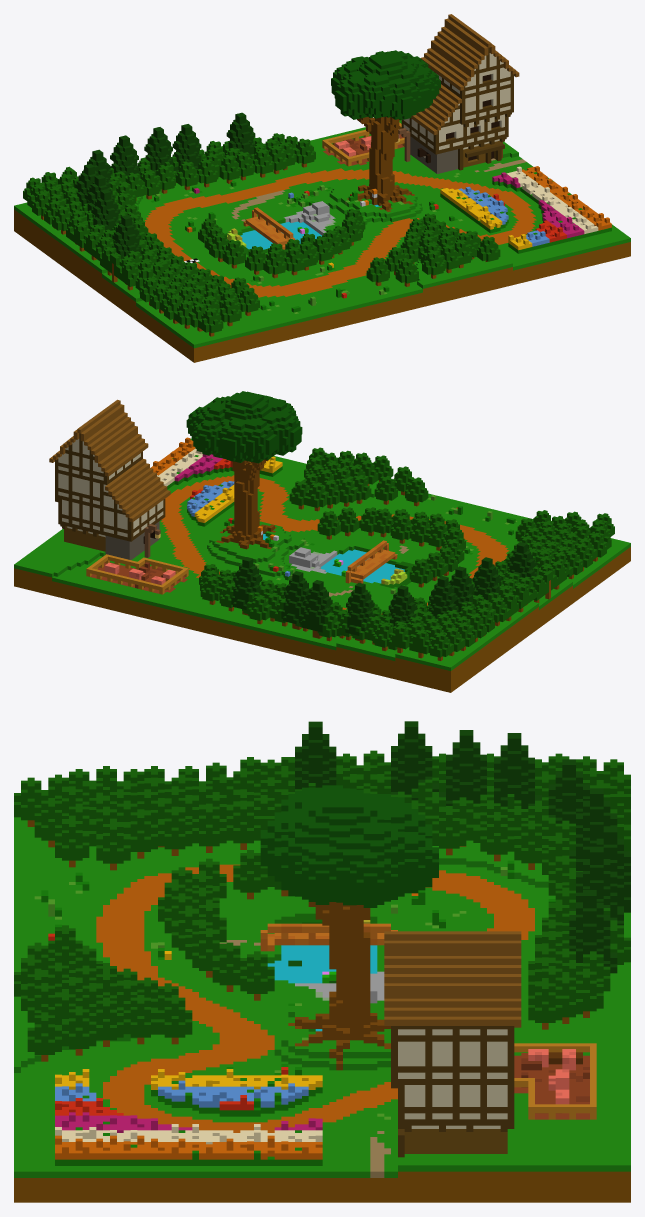
Rendered from grassland.obj.
3 renders of one model, top to bottom at view 1: azimuth 30°, elevation 25°; view 2: azimuth 150°, elevation 25°; view 3: azimuth 270°, elevation 25°, orthographic. The views are drawn at different scales.
Size of the model in its own units: 12.6 by 4.5 by 9.
1 material, 1 textured.
